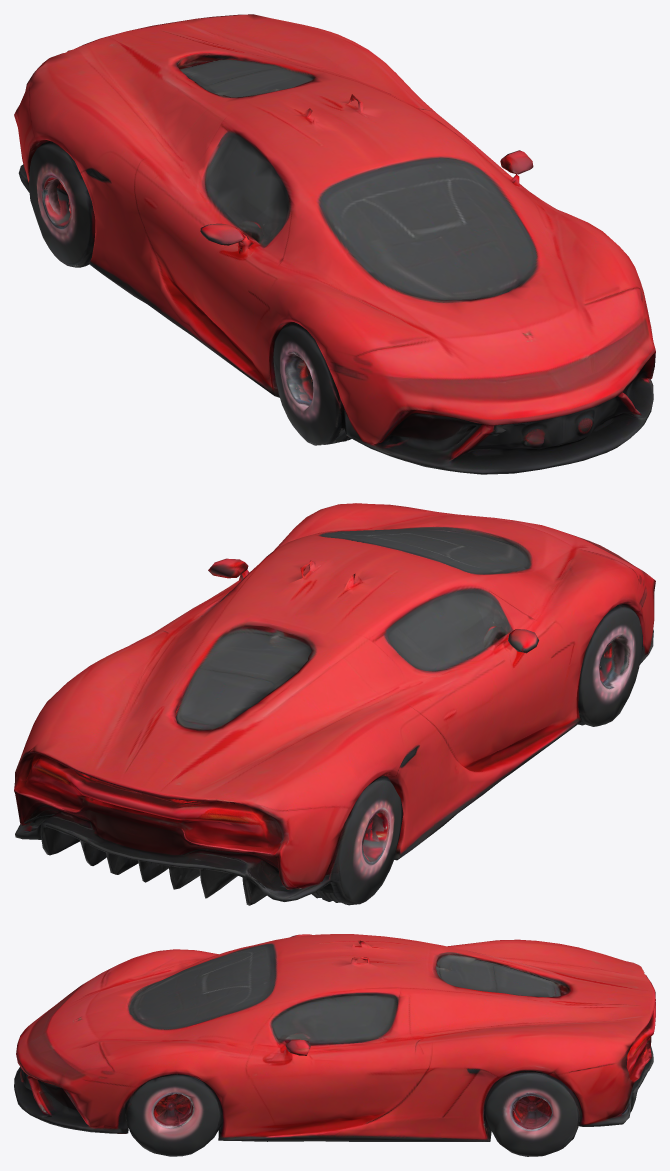
The model's file is 9olar_spor_arabaları_0705112645_texture.glb.
3 renders of one model, top to bottom at view 1: azimuth 30°, elevation 25°; view 2: azimuth 150°, elevation 25°; view 3: azimuth 270°, elevation 25°, orthographic. The views are drawn at different scales.
Bounding box in the file's own units: 0.8623 × 0.5322 × 2.
Materials: 1 (1 with a texture image).
